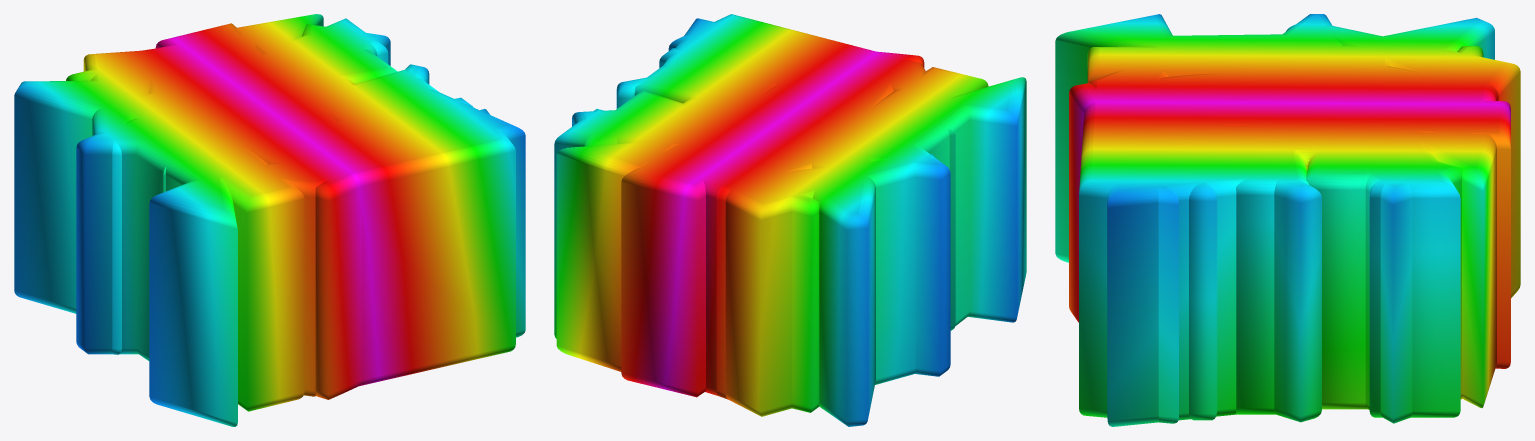
Rendered from TitleText.obj.
3 renders of one model, left to right at view 1: azimuth 30°, elevation 25°; view 2: azimuth 150°, elevation 25°; view 3: azimuth 270°, elevation 25°, orthographic. The views are drawn at different scales.
Visible parts, largest first — view 1: 01, 02, 04, 03; view 2: 01, 02, 04, 03; view 3: 01, 02, 03, 04.
Boxes of the visible parts, box(x1,y1,x2,y2) form: 01: box(14, 14, 515, 426); 02: box(83, 23, 525, 411); 04: box(66, 30, 441, 399); 03: box(126, 43, 429, 173); 01: box(554, 14, 1026, 426); 02: box(572, 18, 988, 416); 04: box(648, 46, 955, 412); 03: box(616, 52, 893, 395); 01: box(1055, 14, 1498, 423); 02: box(1087, 22, 1520, 426); 03: box(1102, 71, 1495, 422); 04: box(1069, 46, 1483, 322).
Bounding box in the file's own units: 0.7601 × 0.44 × 0.7929.
Materials: 1 (1 with a texture image).
